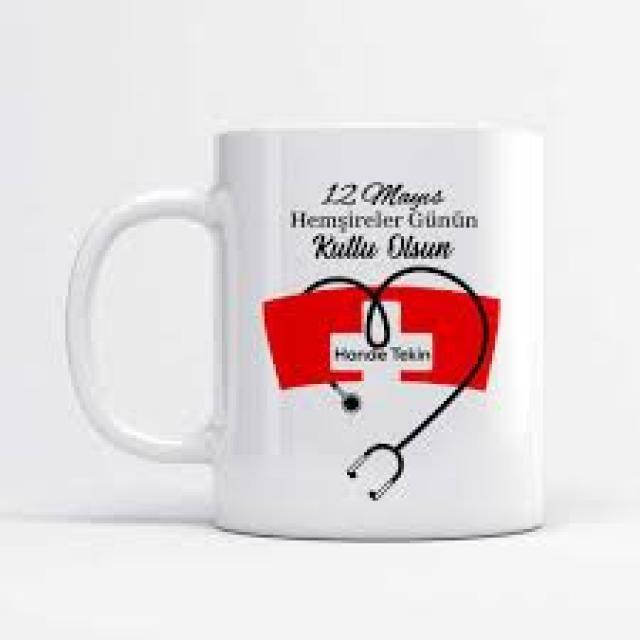taza: (66, 128, 545, 542)
